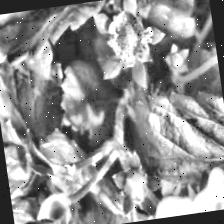Blossom Blight: (109, 12, 149, 65)
